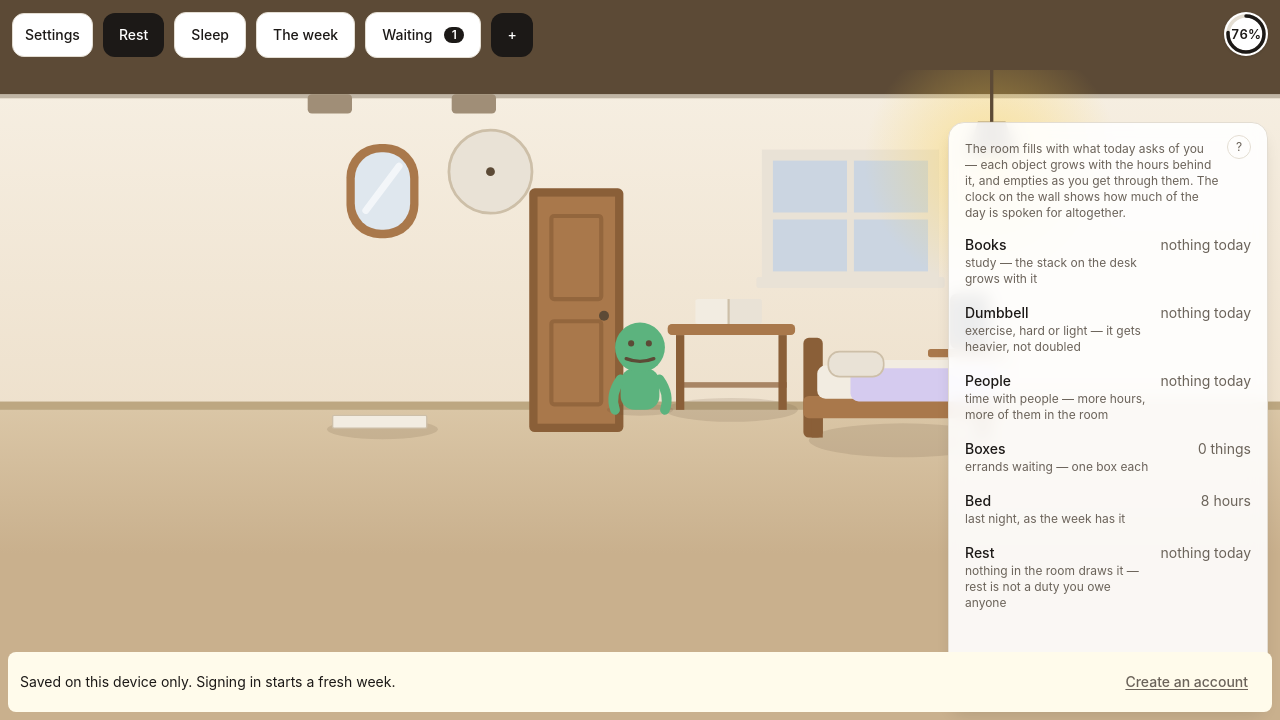
Scenario: the sleep page › remembers a typed target, including one no fixed set of choices would have offered
Click the button with test id "open-sleep": (210, 35) x1=174 y1=12 x2=246 y2=58
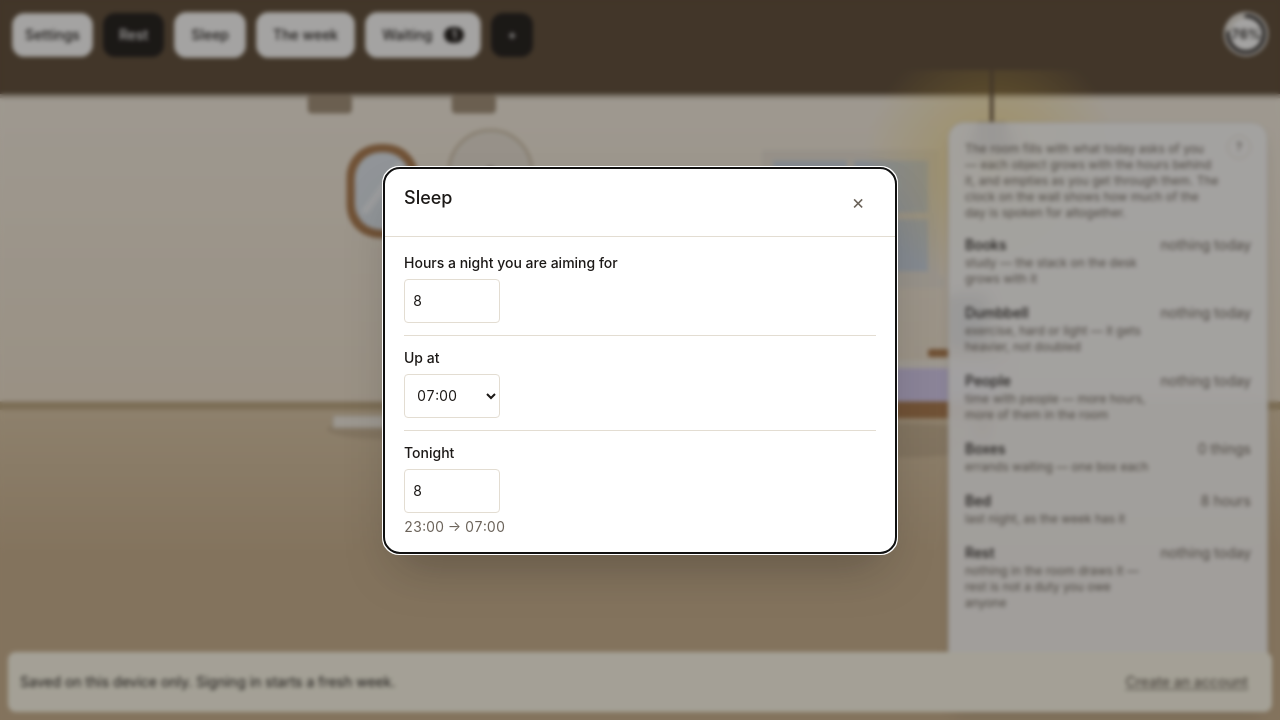
Clear the number field with test id "sleep-target": (452, 300) x1=404 y1=278 x2=500 y2=322
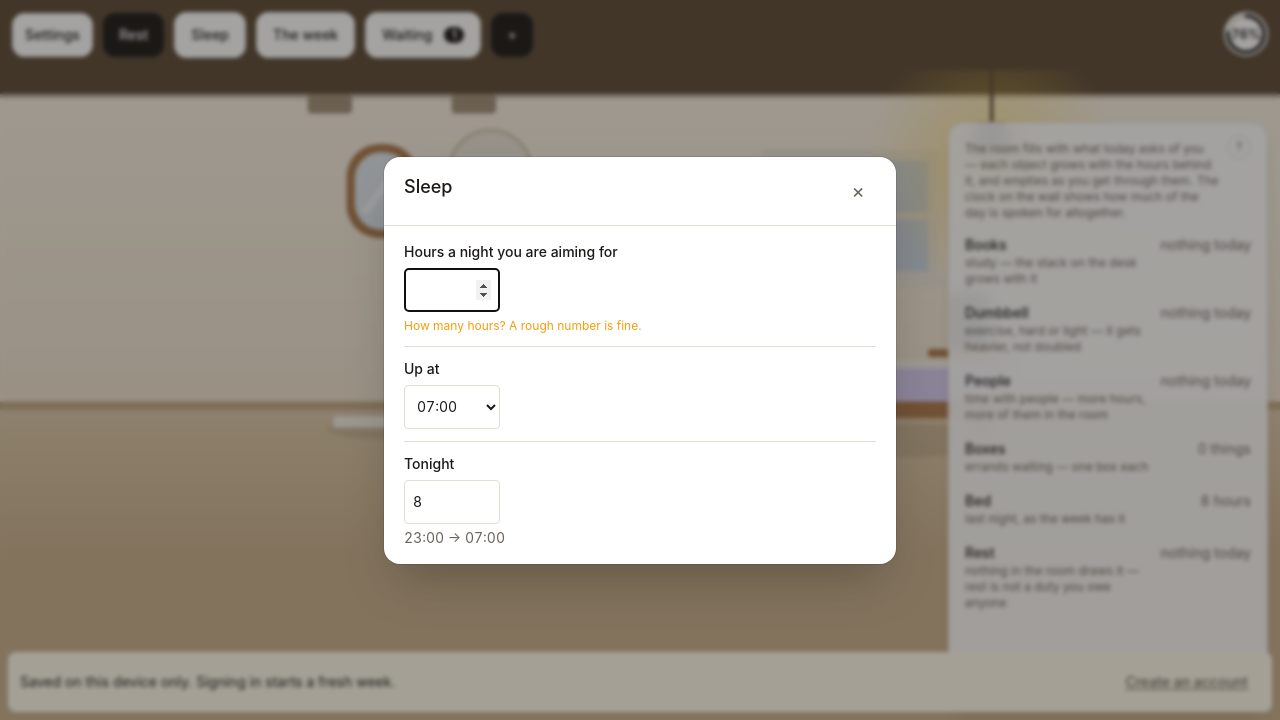
In the number field with test id "sleep-target": (452, 290) x1=404 y1=268 x2=500 y2=312, type "6.5"
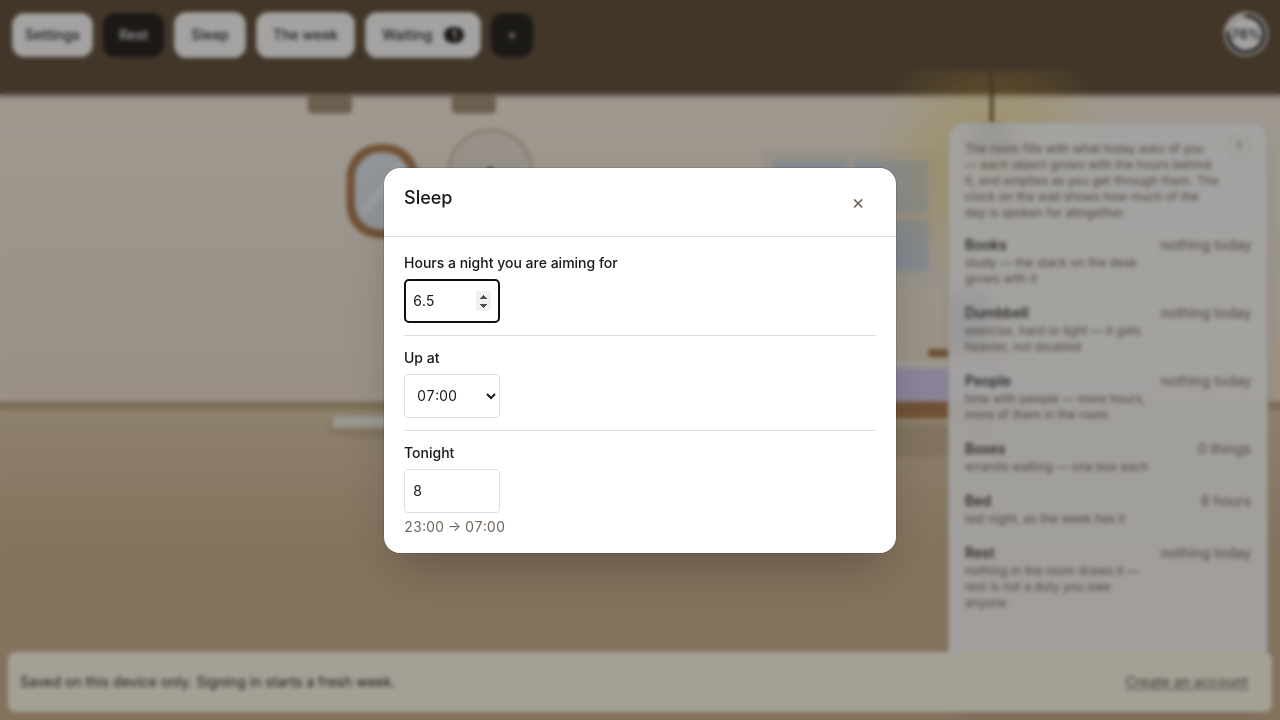
Press Tab
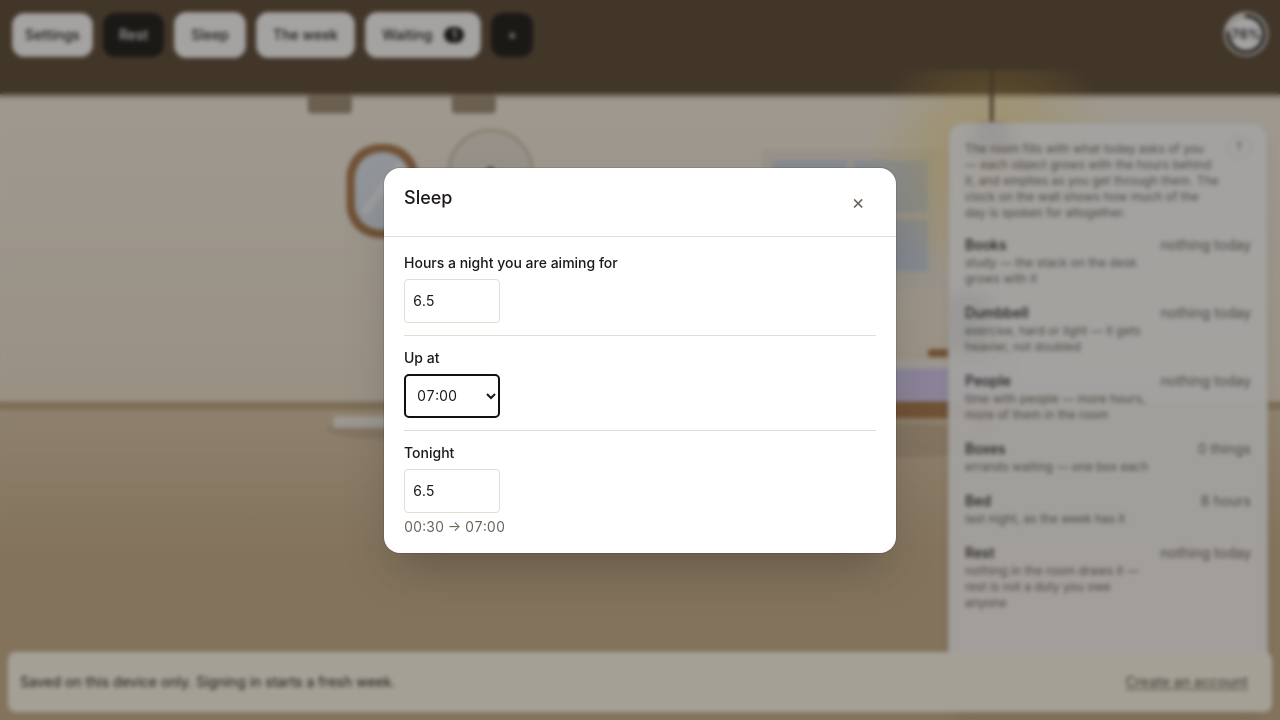
Check: the number field with test id "sleep-tonight" holds "6.5", box x1=404 y1=468 x2=500 y2=512
